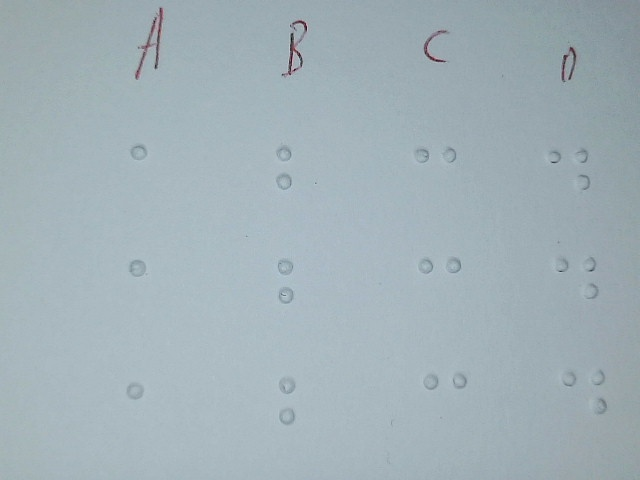A: (120, 247, 183, 336), (116, 369, 179, 458), (120, 130, 183, 219)
B: (265, 133, 327, 223), (266, 246, 328, 336), (269, 366, 331, 456)
C: (406, 135, 467, 223), (409, 246, 470, 334), (414, 360, 475, 448)
